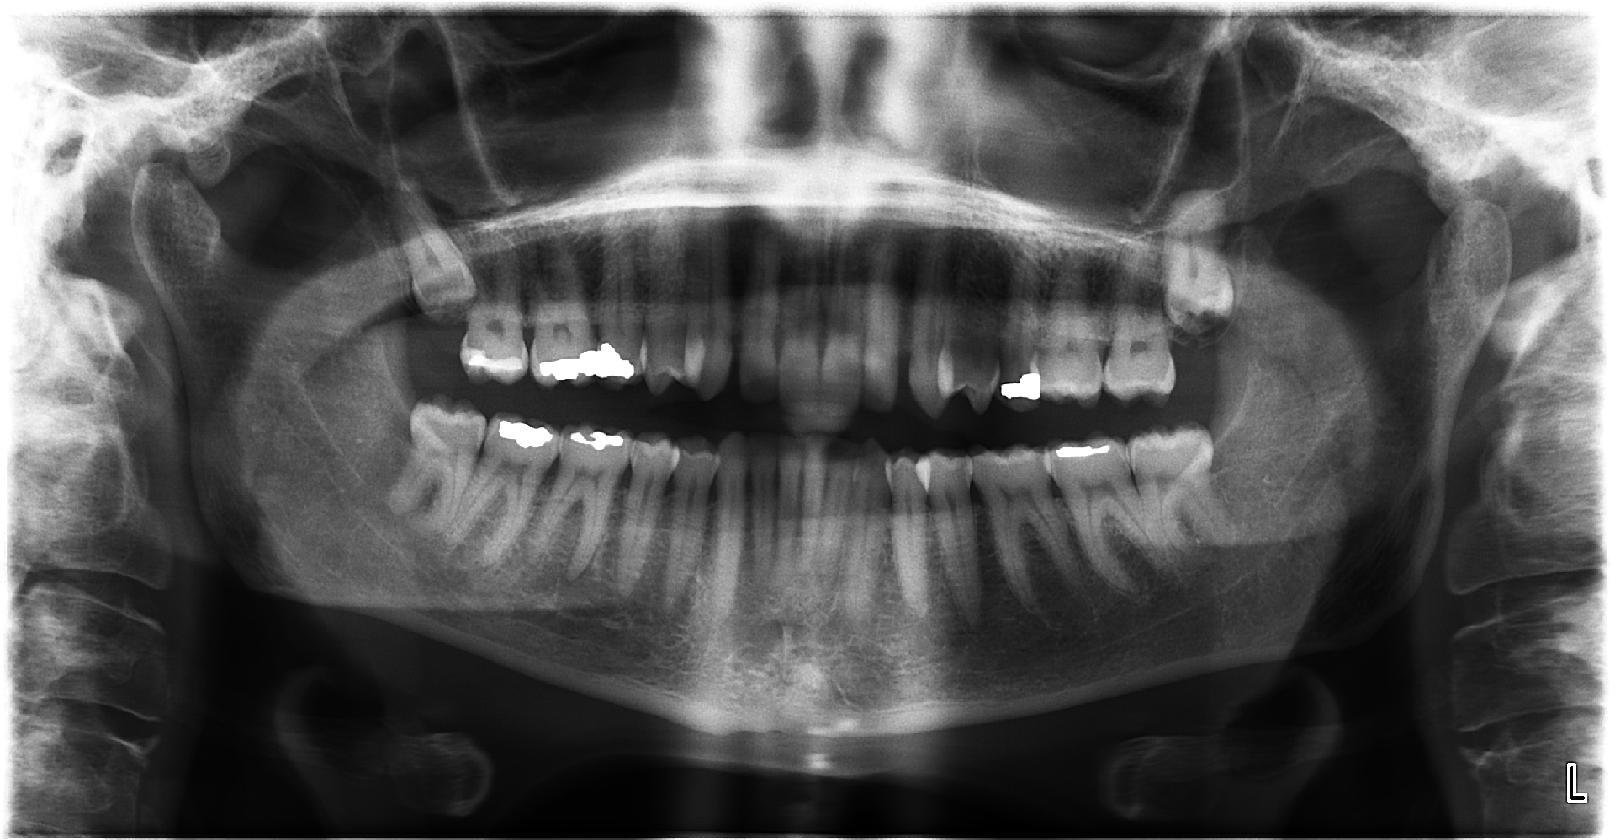Erupted: (1130, 419, 1248, 563), (385, 391, 489, 538)
